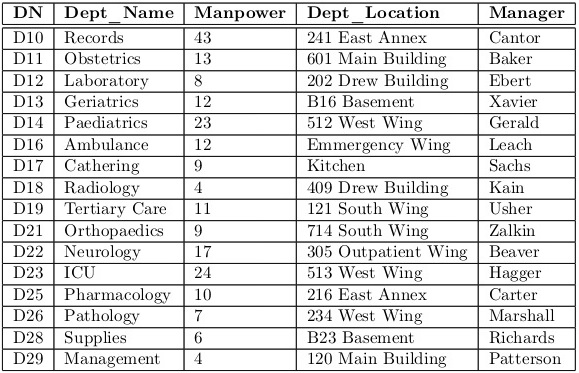column: (306, 3, 468, 373), (63, 3, 174, 373), (193, 4, 285, 373), (489, 3, 563, 373), (14, 4, 44, 373)
row: (1, 179, 579, 197), (3, 330, 579, 348), (4, 4, 579, 22), (1, 137, 579, 154), (1, 266, 579, 283), (1, 201, 578, 218), (2, 223, 579, 240), (2, 307, 579, 324), (4, 50, 579, 67), (4, 114, 579, 131), (4, 244, 579, 261), (3, 73, 578, 89), (2, 351, 576, 367), (9, 29, 577, 44), (1, 158, 579, 172), (2, 287, 579, 301), (4, 94, 579, 108)
